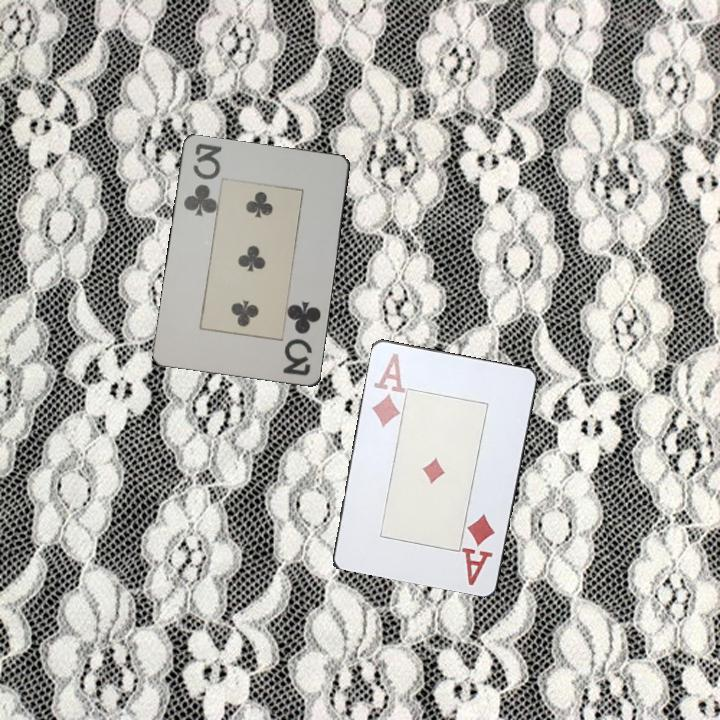3c: (279, 298, 324, 379), (180, 140, 224, 220)
Ad: (368, 349, 406, 430), (460, 509, 498, 588)
